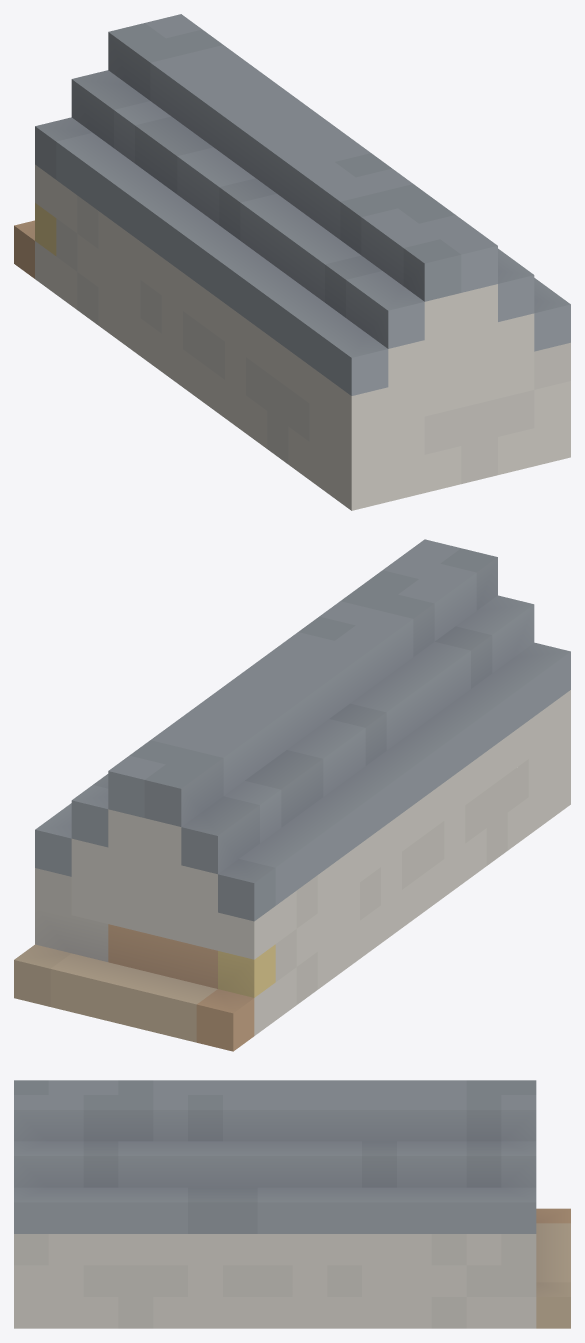
File: copper_mine.lite.glb
The picture shows the model from 3 angles, top to bottom: view 1: azimuth 30°, elevation 25°; view 2: azimuth 150°, elevation 25°; view 3: azimuth 270°, elevation 25°; orthographic projection. The views are drawn at different scales.
Visible parts, largest first — view 1: copper_mine; view 2: copper_mine; view 3: copper_mine.
Part boxes in pixels (box(x1,y1,x2,y2)): copper_mine: box(14, 14, 570, 510); copper_mine: box(14, 539, 570, 1051); copper_mine: box(14, 1080, 570, 1328).
Size of the model in its own units: 3 by 3 by 8.
